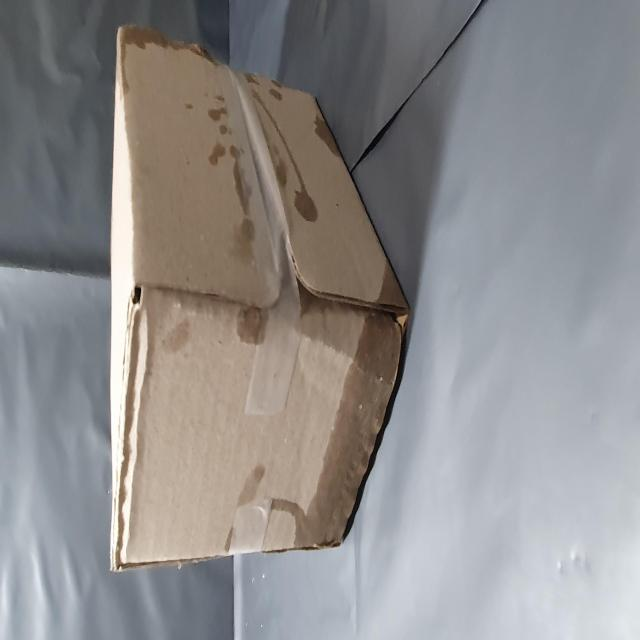wet: (45, 464, 211, 640), (236, 383, 318, 591)
